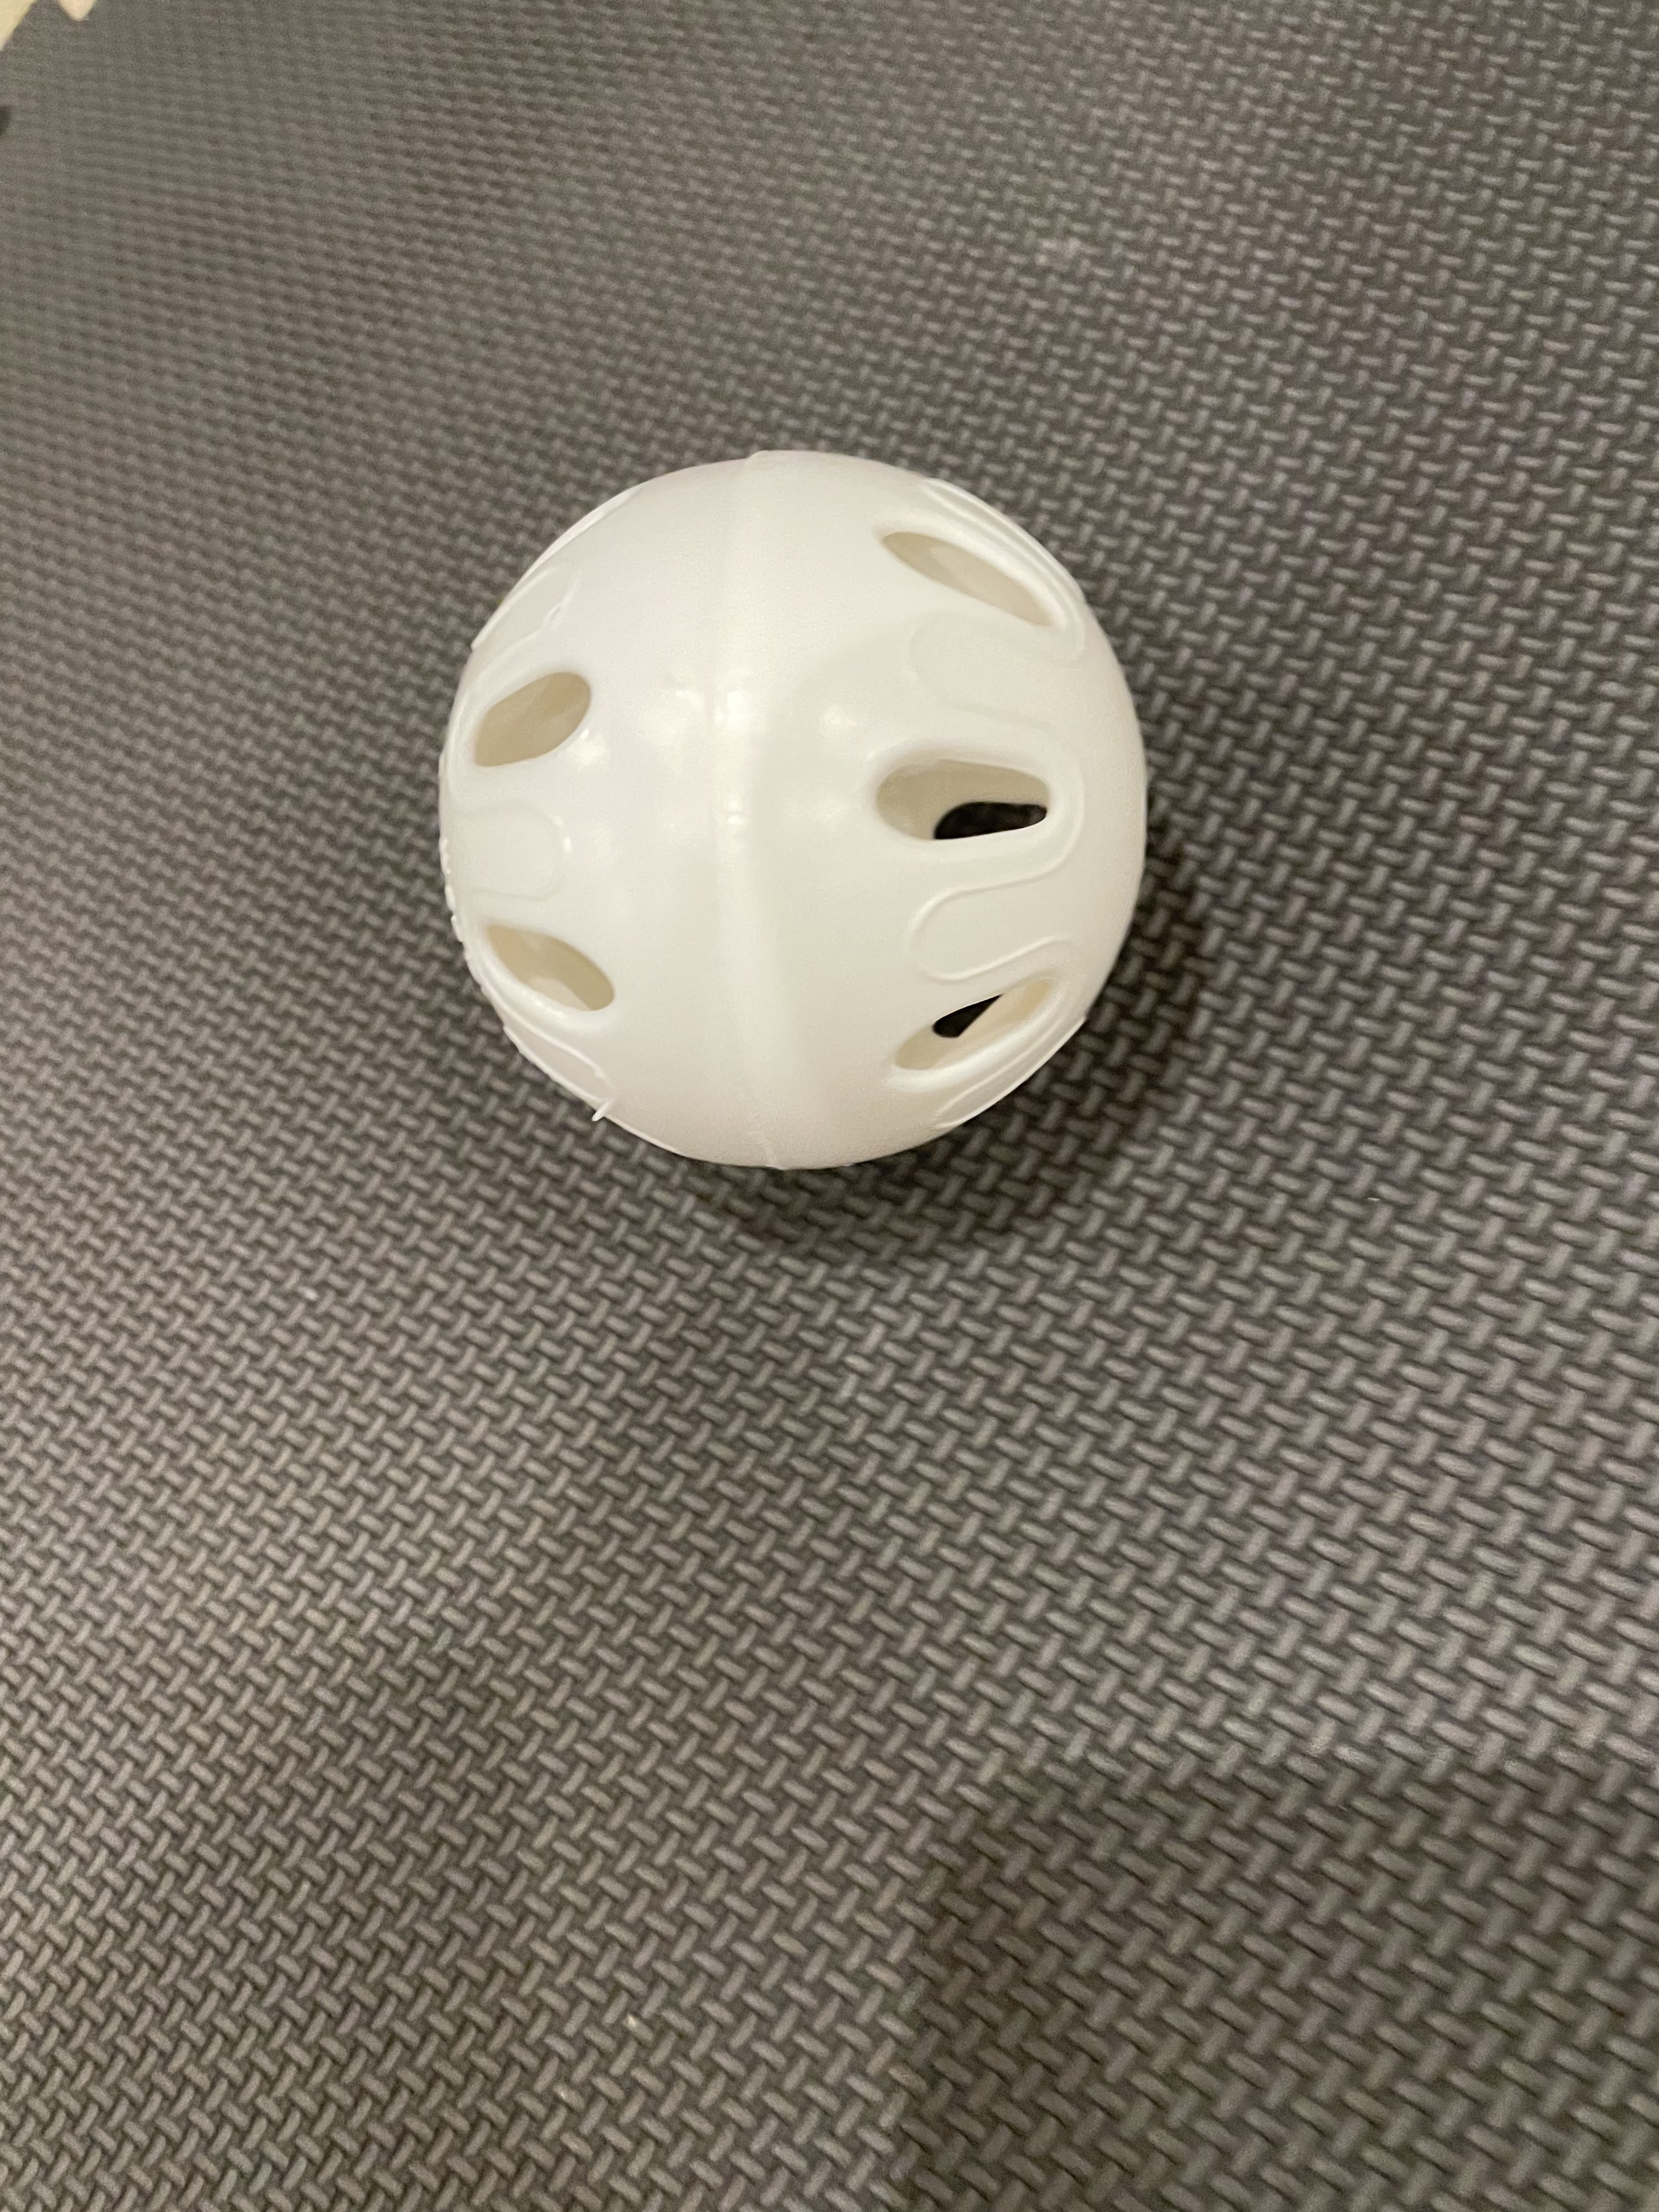ball: (385, 397, 1213, 1224)
